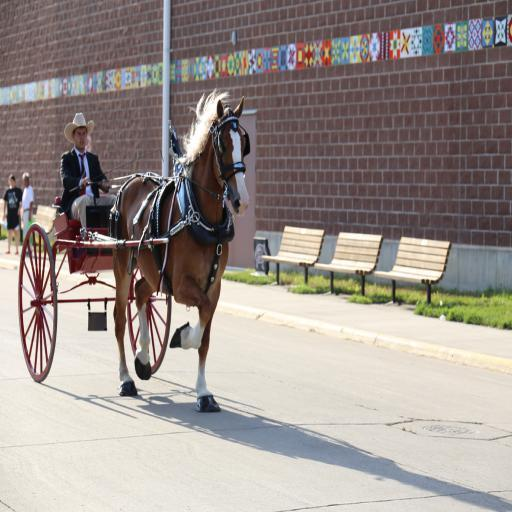horse: (109, 84, 246, 414)
